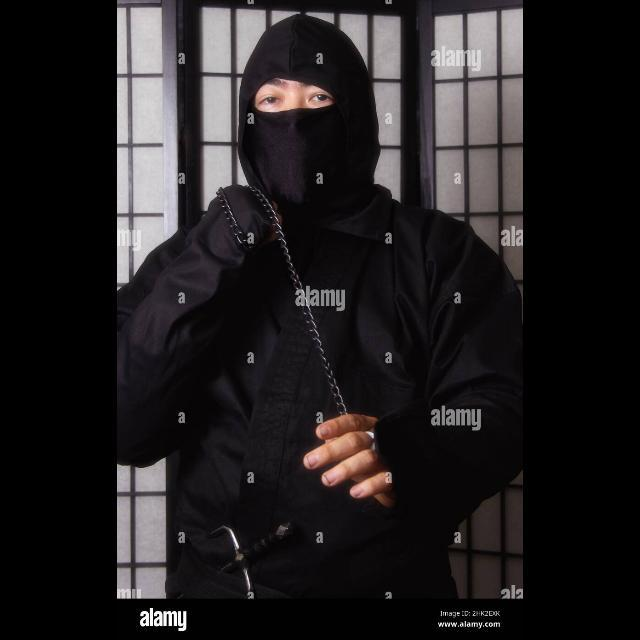criminal: (115, 15, 525, 600)
